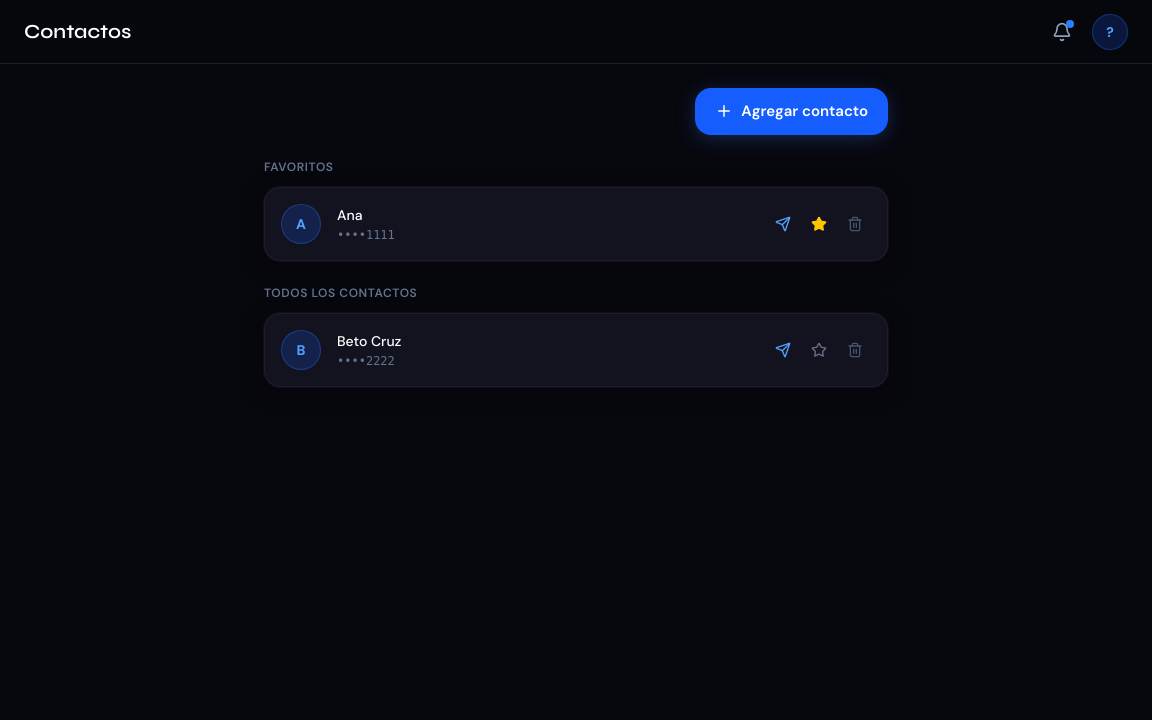
Test: ContactsPage › opens the add-contact modal from the header button
This screenshot has width=1152, height=720.
Expected: the text "Ana" is shown, [337,206,362,224]
Step 1. Click the button "Agregar contacto" → (792, 111), box [695,88,888,134]
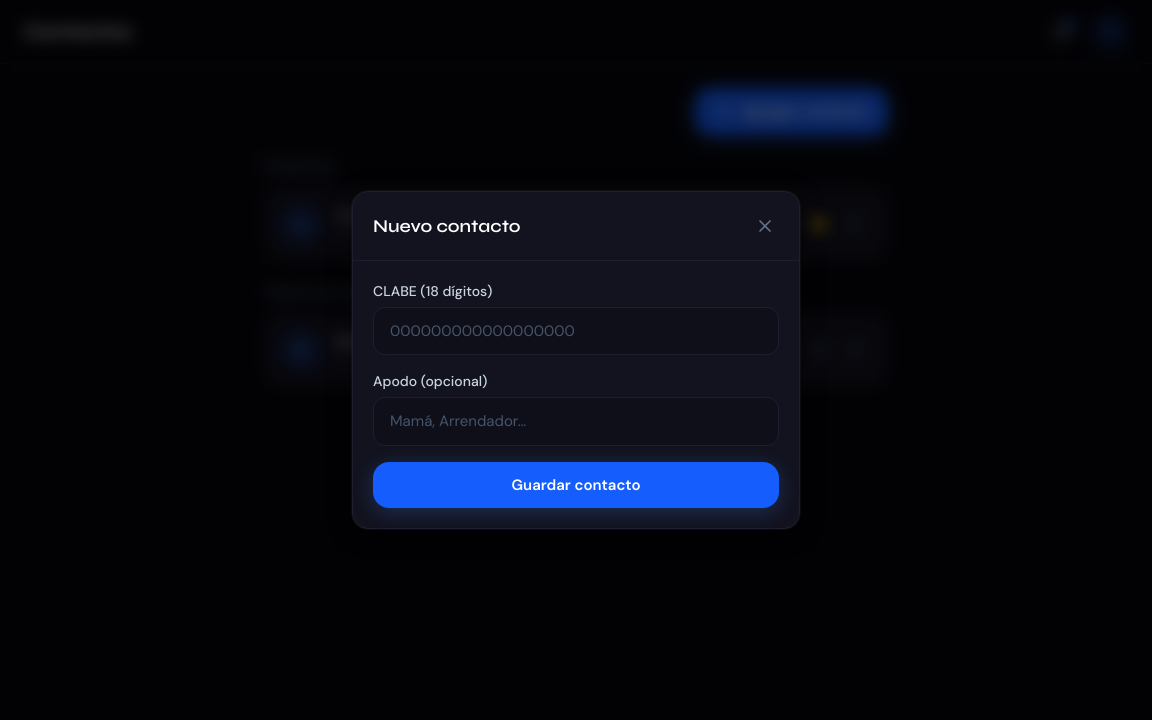
Expected: the heading "Nuevo contacto" is shown, [373,212,520,240]
